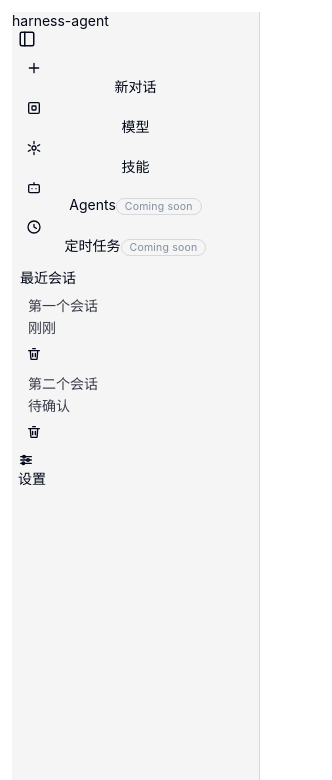
Test: Sidebar › marks a background session that is waiting for approval
Expected: the text "第二个会话" is shown, [28,373,98,393]
Expected: the text "待确认" is shown, [28,395,70,415]
Click the button titled "收起侧边栏". click: (27, 39)
box: [12,29,42,49]
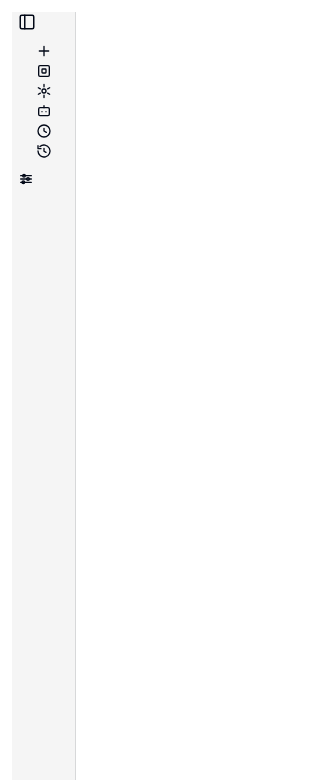
Now the button named "最近会话，1 个待确认" is shown, box [30,142,58,160]
